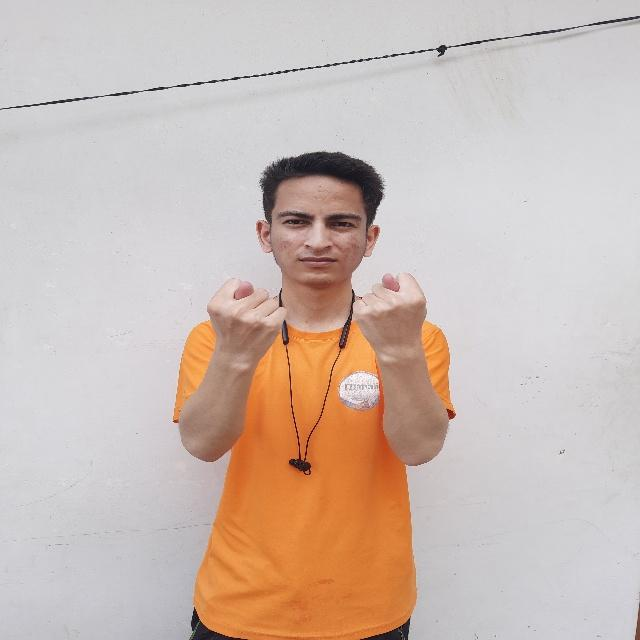Dulya: (350, 262, 438, 370), (202, 270, 288, 378)
